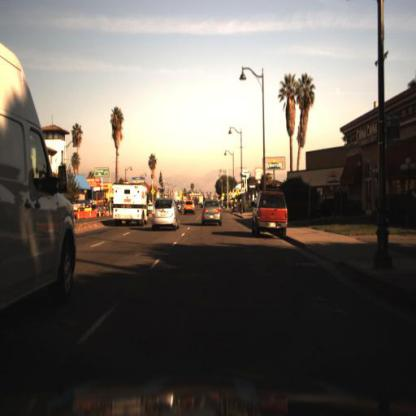car: (1, 20, 85, 324), (248, 190, 294, 240), (110, 173, 150, 230), (153, 194, 184, 234), (198, 199, 222, 228), (183, 194, 199, 223), (181, 197, 196, 219)
truck: (1, 48, 78, 319), (114, 182, 150, 226)
